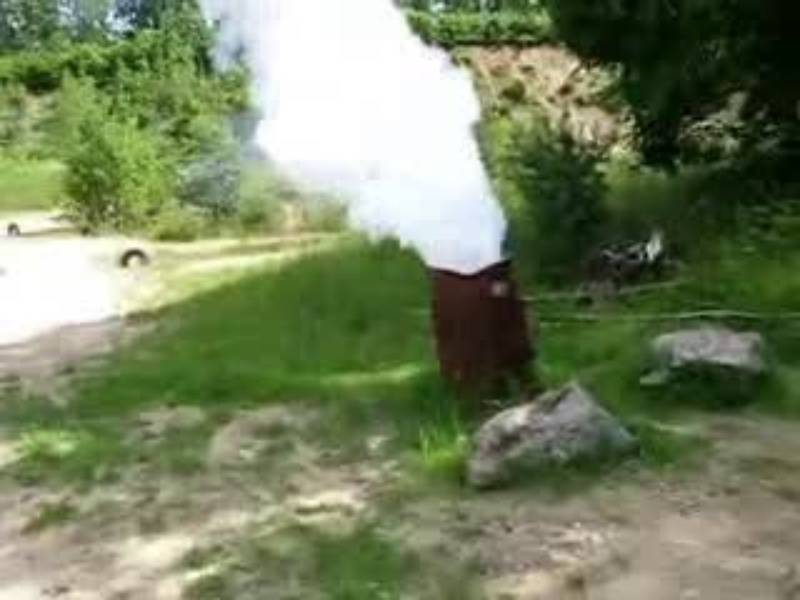smoke: (222, 1, 497, 267)
